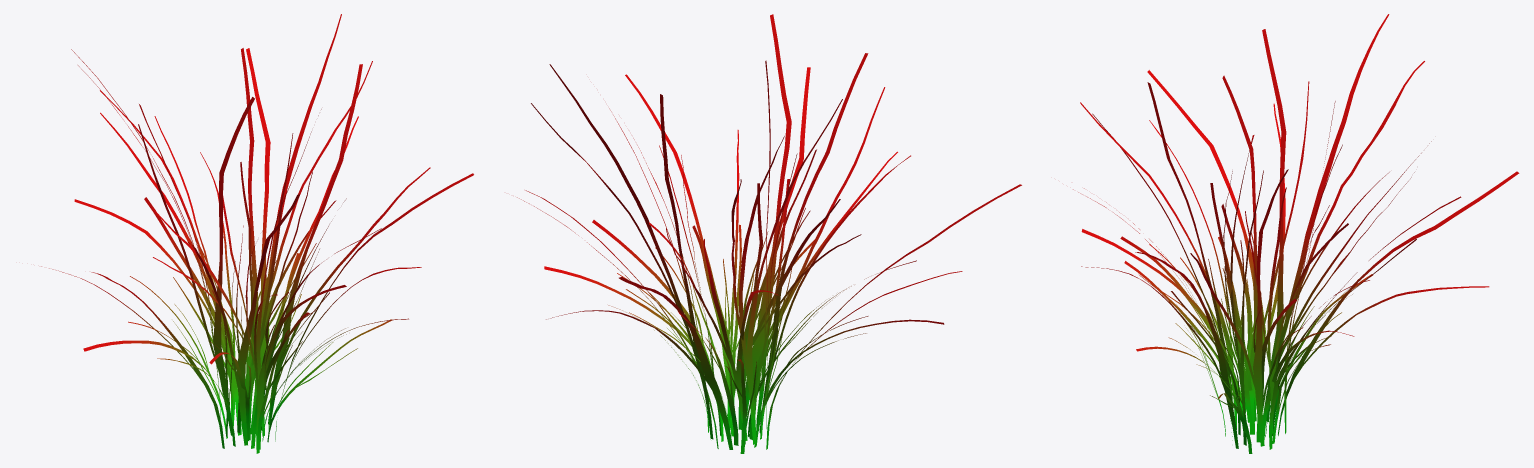
The model's file is skFjJ_Var4_LOD0.fbx.
3 renders of one model, left to right at view 1: azimuth 30°, elevation 25°; view 2: azimuth 150°, elevation 25°; view 3: azimuth 270°, elevation 25°, orthographic. The views are drawn at different scales.
Visible parts, largest first — view 1: _f68f_Var4_LOD0; view 2: _f68f_Var4_LOD0; view 3: _f68f_Var4_LOD0.
Boxes of the visible parts, x1=… form: _f68f_Var4_LOD0: x1=41, y1=14, x2=473, y2=453; _f68f_Var4_LOD0: x1=517, y1=14, x2=1021, y2=453; _f68f_Var4_LOD0: x1=1073, y1=14, x2=1519, y2=453.
Size of the model in its own units: 53.54 by 48.93 by 55.03.
